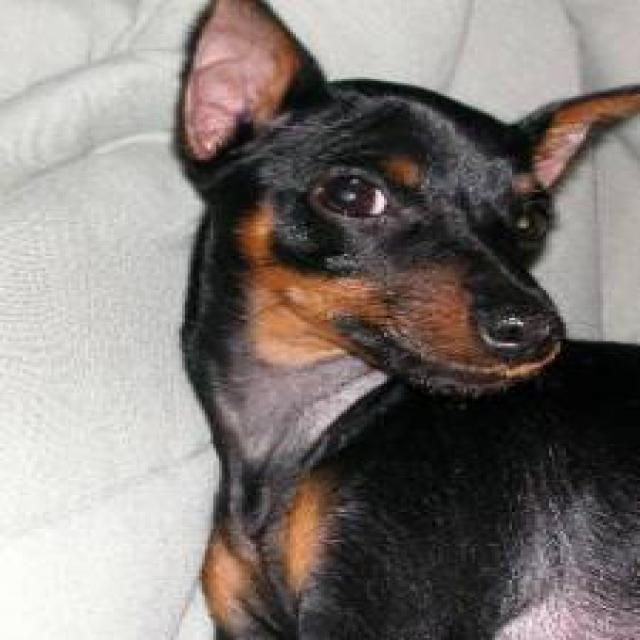dog-miniature_pinscher: (168, 2, 634, 636)
